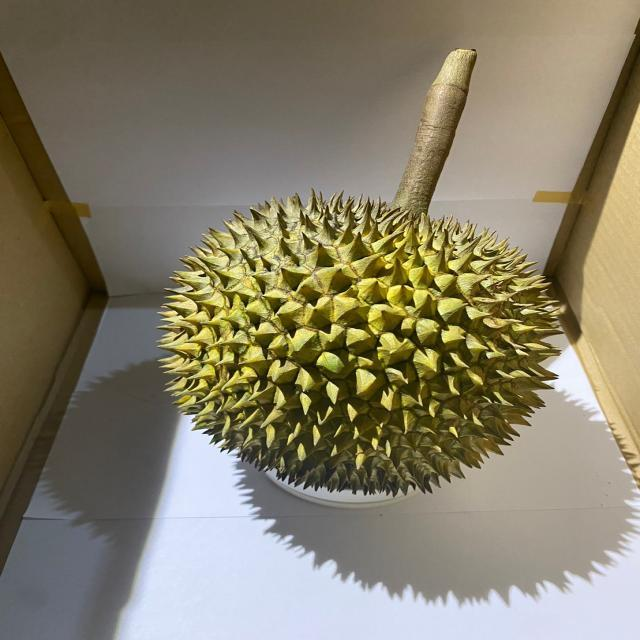immature: (154, 185, 567, 495)
